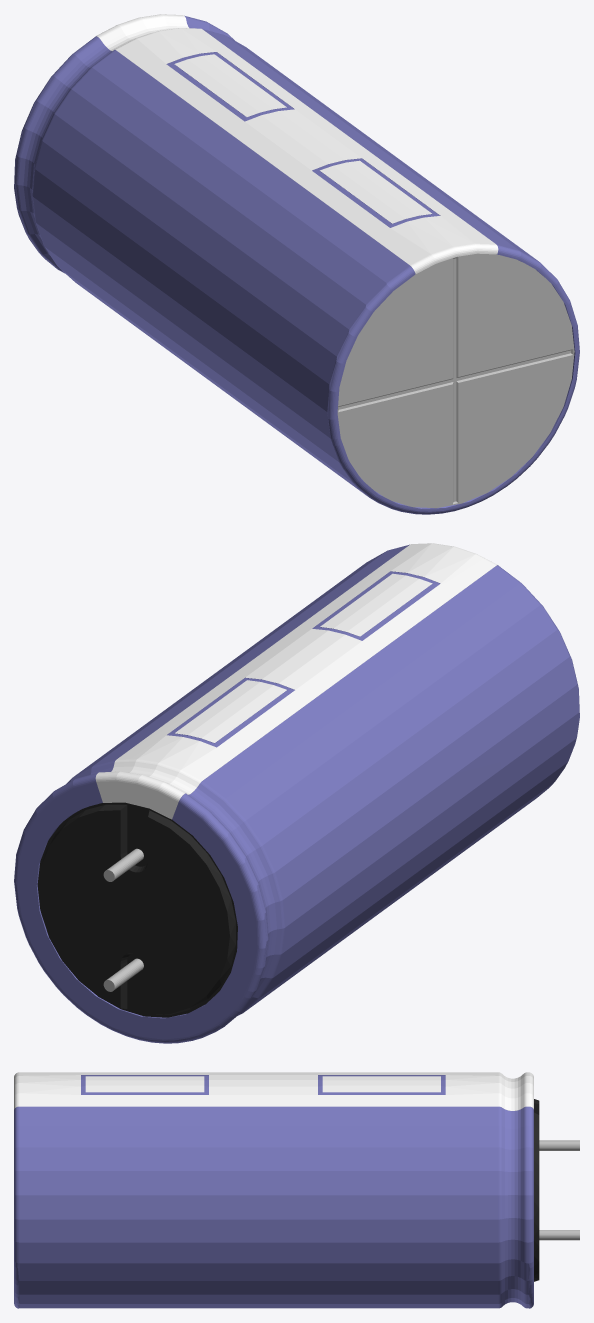
The model's file is cap_el_d18_h40_pitch7.5_w0.8.obj.
3 renders of one model, top to bottom at view 1: azimuth 30°, elevation 25°; view 2: azimuth 150°, elevation 25°; view 3: azimuth 270°, elevation 25°, orthographic. The views are drawn at different scales.
Visible parts, largest first — view 1: cap_el_d18_h40_pitch7.5_w0.8; view 2: cap_el_d18_h40_pitch7.5_w0.8; view 3: cap_el_d18_h40_pitch7.5_w0.8.
Boxes of the visible parts, x1,y1,x2,y2 form: cap_el_d18_h40_pitch7.5_w0.8: (14, 14, 579, 514); cap_el_d18_h40_pitch7.5_w0.8: (14, 543, 579, 1043); cap_el_d18_h40_pitch7.5_w0.8: (14, 1072, 579, 1308).
Bounding box in the file's own units: 0.00977 × 0.00977 × 0.0233.
